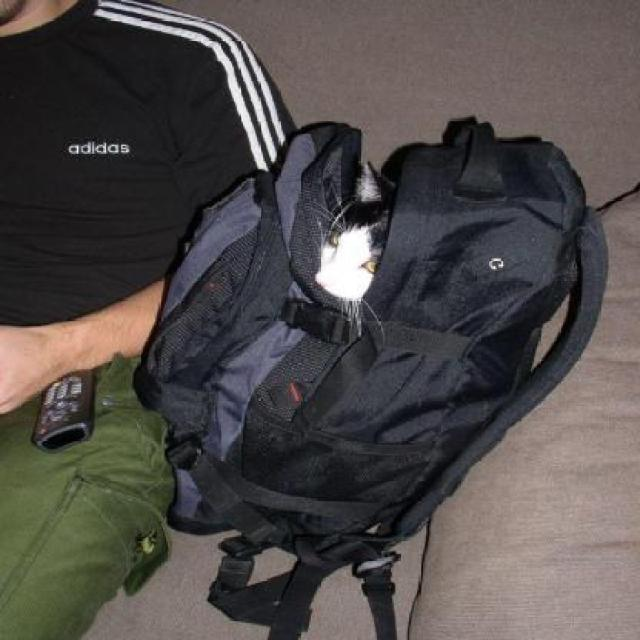backpack: (108, 112, 628, 640)
